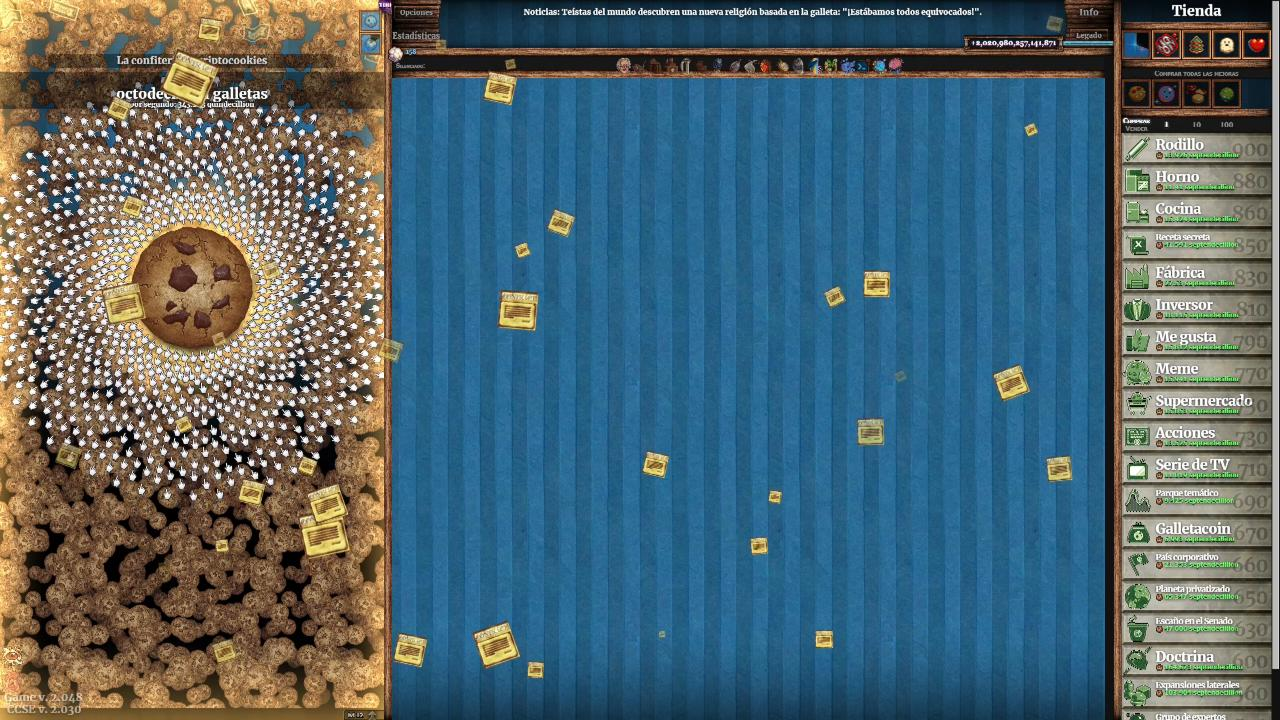GoldenCartridge: (158, 48, 221, 109), (296, 506, 352, 561), (472, 619, 522, 671), (100, 279, 148, 327), (496, 288, 543, 332), (306, 481, 350, 526), (992, 363, 1032, 403), (482, 69, 520, 108), (392, 631, 431, 669), (855, 417, 886, 448), (546, 208, 578, 238), (862, 270, 893, 300), (641, 450, 672, 480), (1044, 454, 1074, 485), (54, 441, 84, 470), (238, 478, 268, 507), (377, 336, 405, 365), (105, 95, 133, 122), (198, 15, 225, 42), (822, 284, 848, 310), (211, 638, 238, 663), (120, 193, 146, 218), (261, 258, 282, 280), (297, 456, 318, 477), (814, 628, 834, 650), (750, 536, 770, 557), (1044, 14, 1064, 34), (175, 415, 194, 434), (526, 661, 544, 680), (515, 241, 532, 259), (767, 489, 783, 506), (215, 537, 230, 554)
